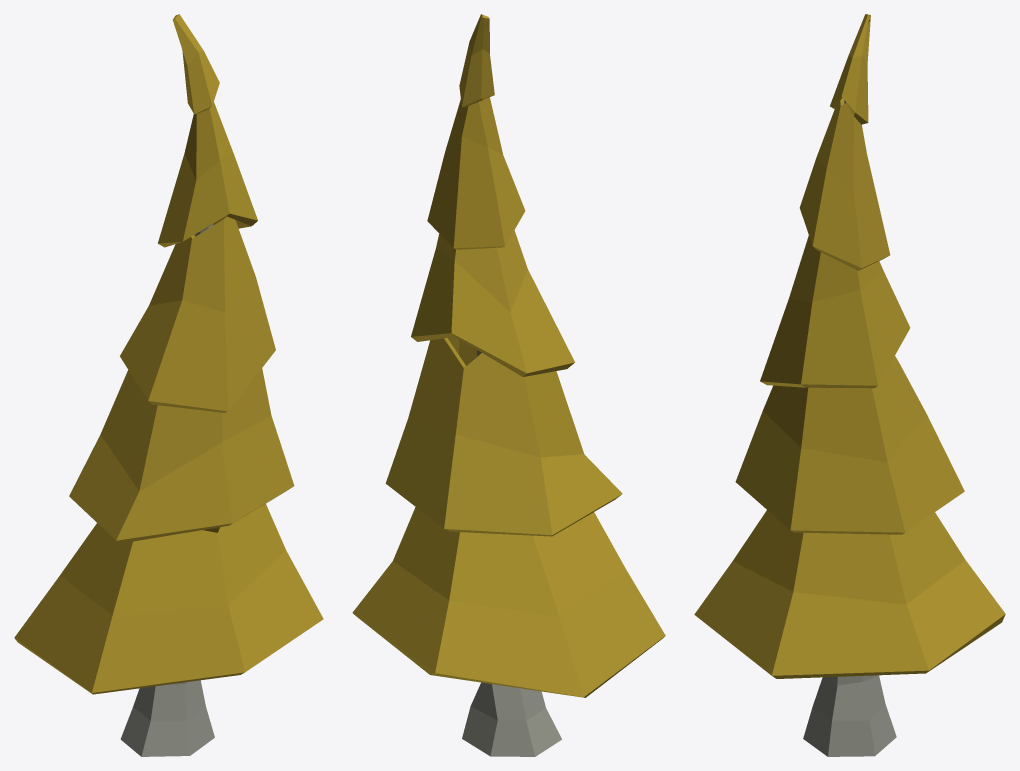
File: Tree_Pine5.fbx
3 views of the same model, side by side, from view 1: azimuth 30°, elevation 25°; view 2: azimuth 150°, elevation 25°; view 3: azimuth 270°, elevation 25° (orthographic). The views are drawn at different scales.
Parts seen in each view (by area): view 1: Cylinder.013; view 2: Cylinder.013; view 3: Cylinder.013.
Part boxes in pixels (x1,y1,x2,y2): Cylinder.013: [14, 14, 323, 756]; Cylinder.013: [352, 14, 665, 756]; Cylinder.013: [694, 14, 1005, 756].
Size of the model in its own units: 272 by 801 by 308.
